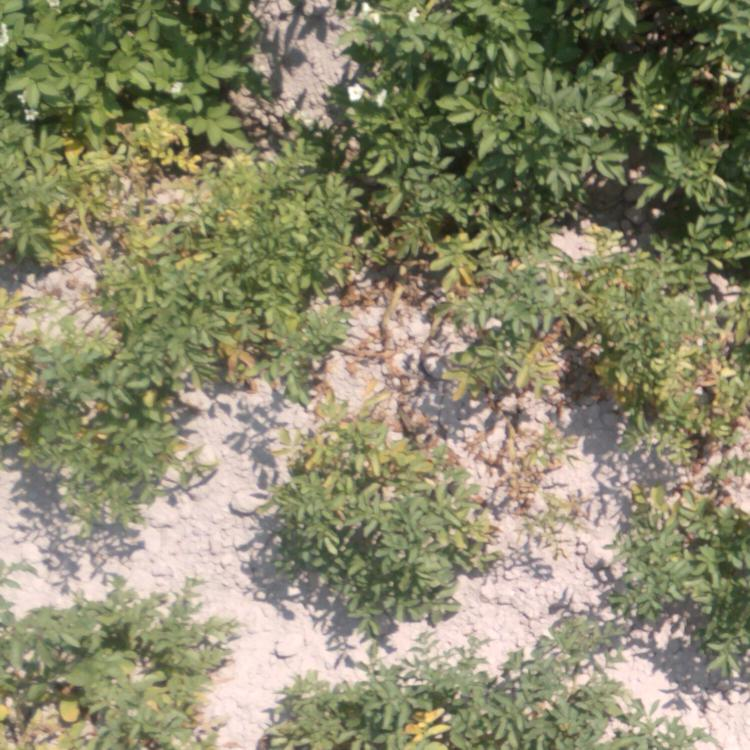healthy: (466, 1, 744, 207), (2, 1, 223, 102), (347, 1, 445, 206), (635, 507, 746, 657), (288, 497, 437, 606)
stressed: (591, 215, 748, 488), (365, 215, 579, 377), (1, 291, 154, 503), (273, 661, 635, 748), (136, 112, 329, 255), (7, 599, 194, 744), (314, 379, 529, 490), (1, 114, 118, 278), (169, 261, 305, 392)
